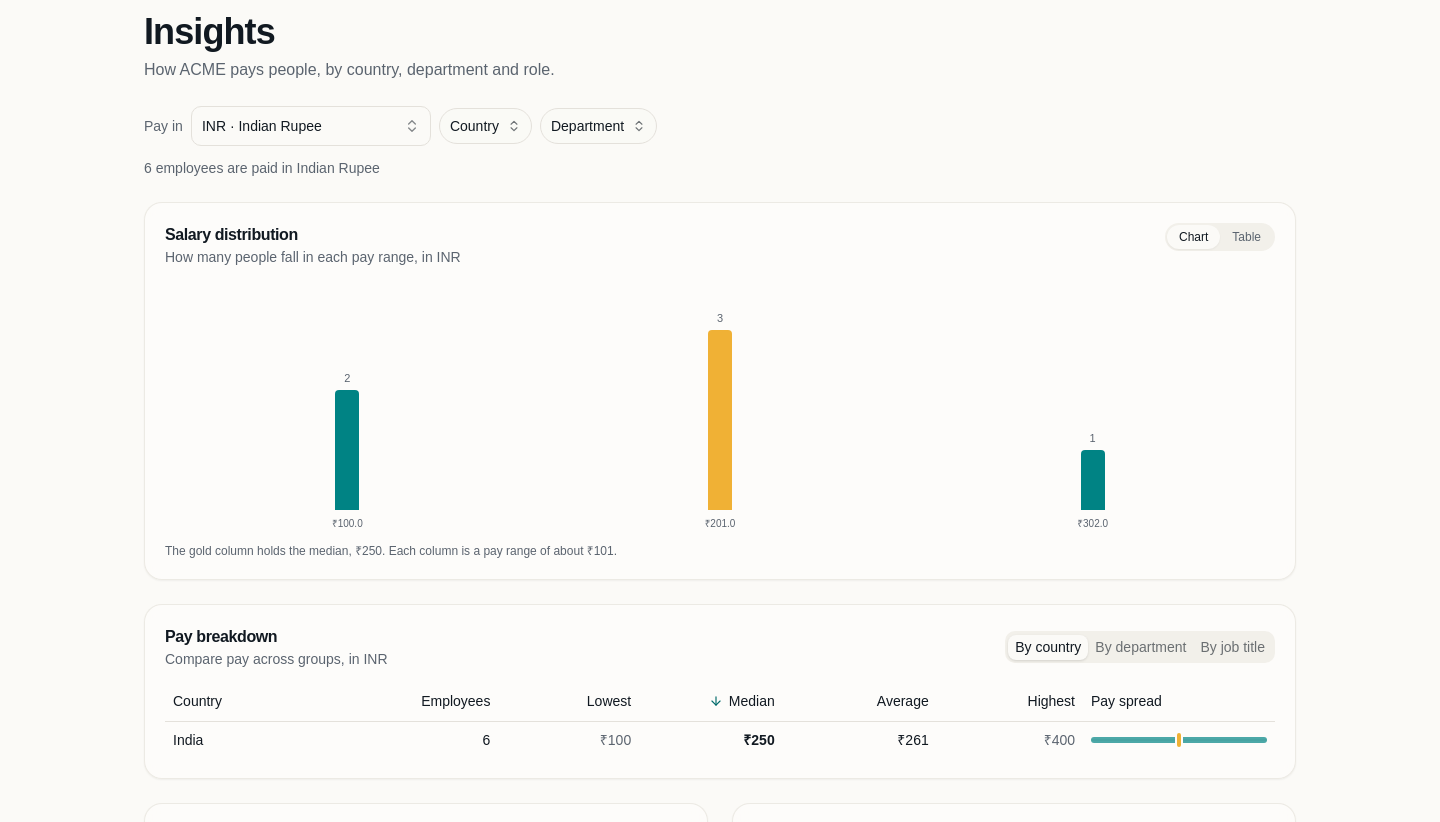
Test: salary distribution › has a table view with the same ranges
Click the button "Table" at (1247, 237), box [1220,225,1273,249]
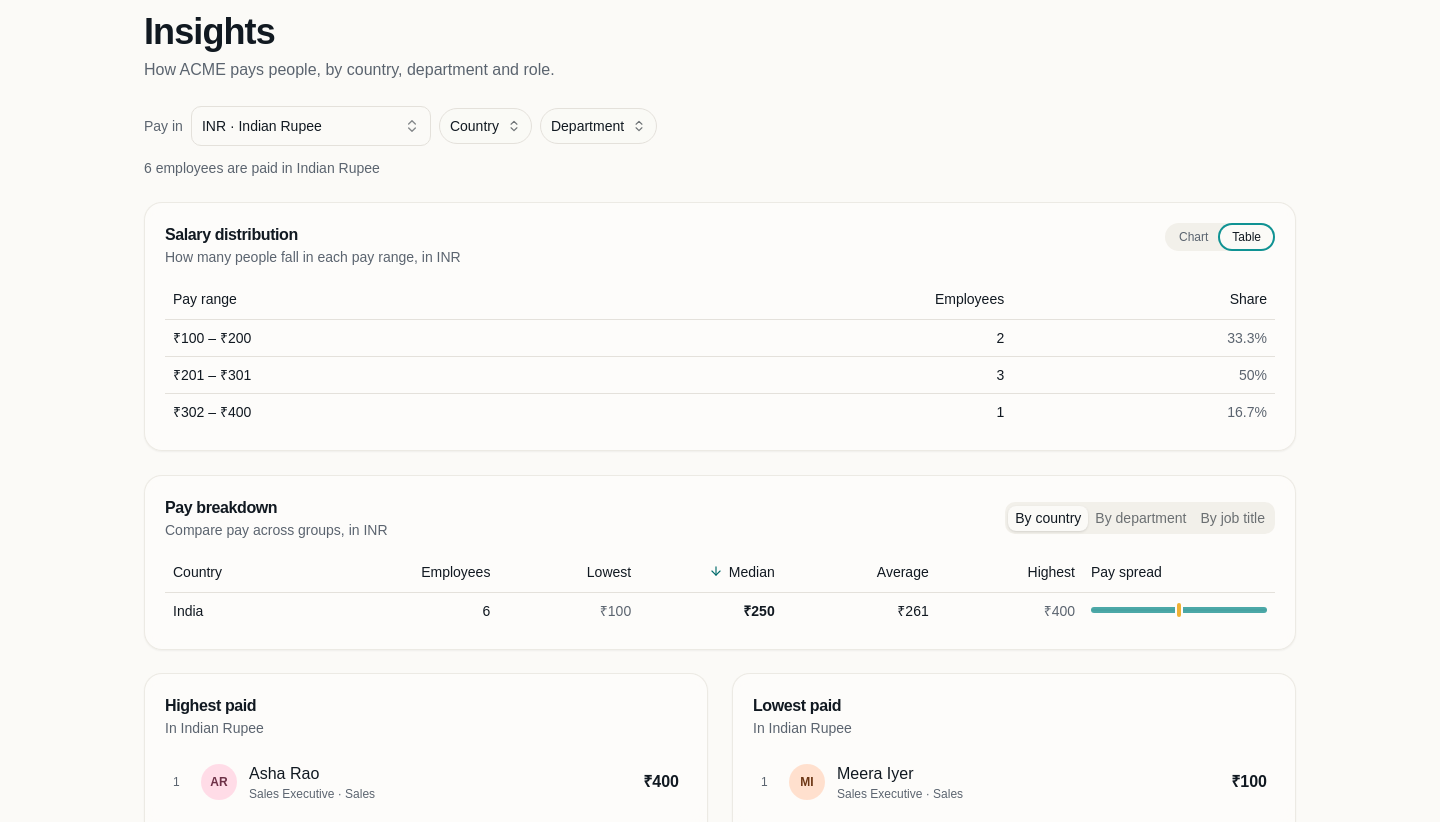
Result: the row "₹201 – ₹301 3 50%" is shown at [165,356,1275,393]
